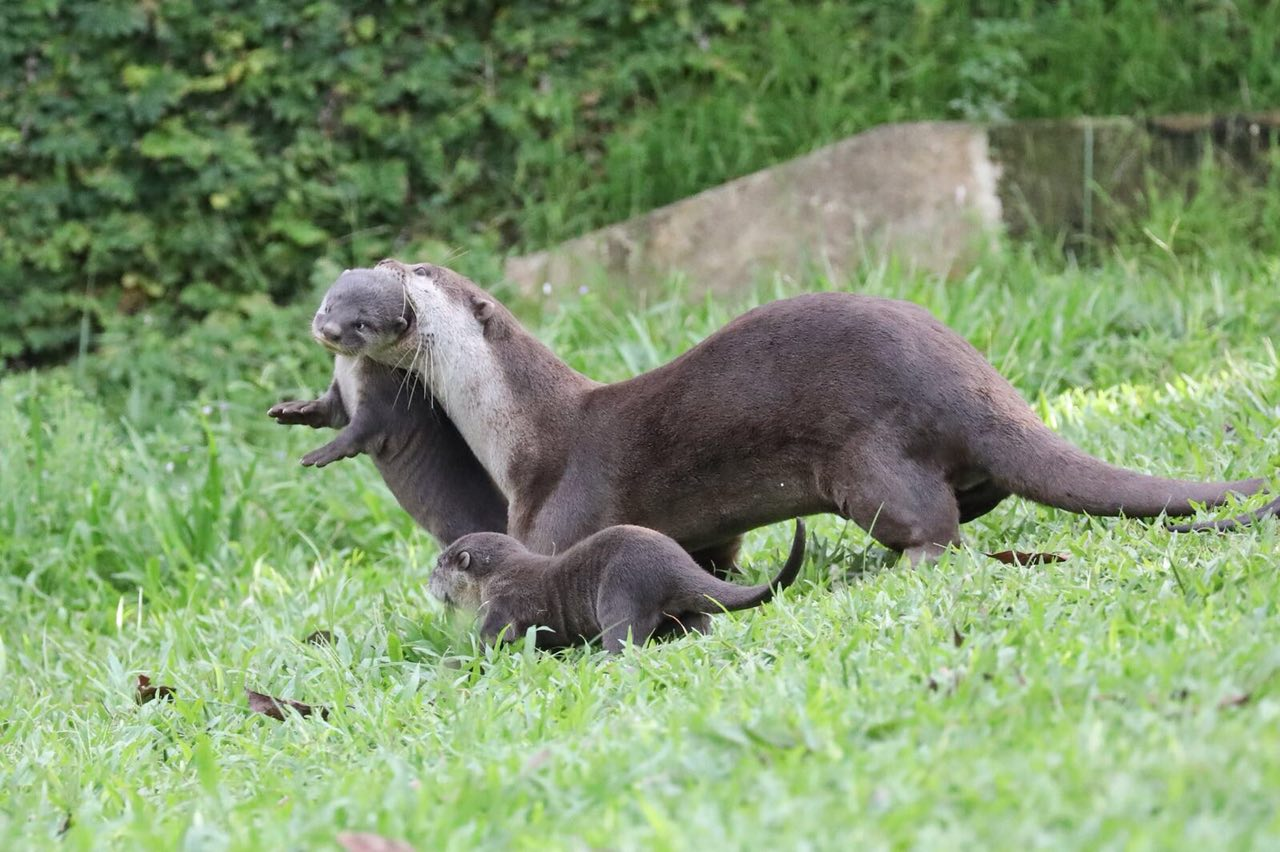otter: (362, 240, 1277, 572), (253, 242, 517, 540), (416, 510, 854, 659)
